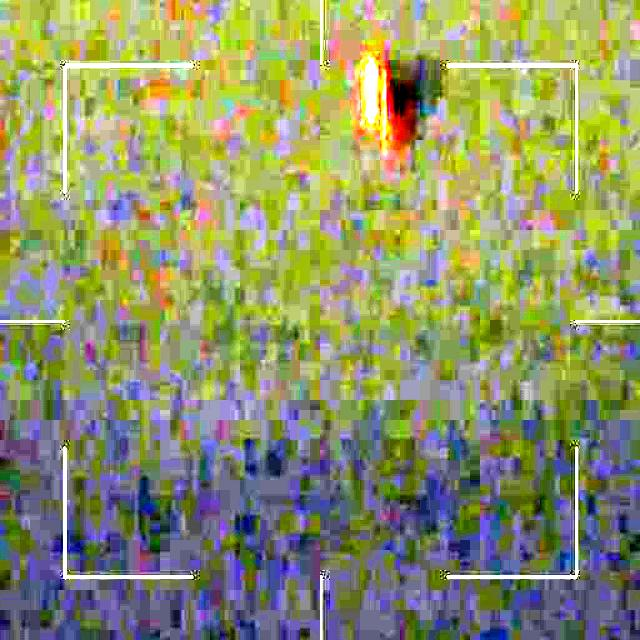bird: (358, 56, 441, 154)
